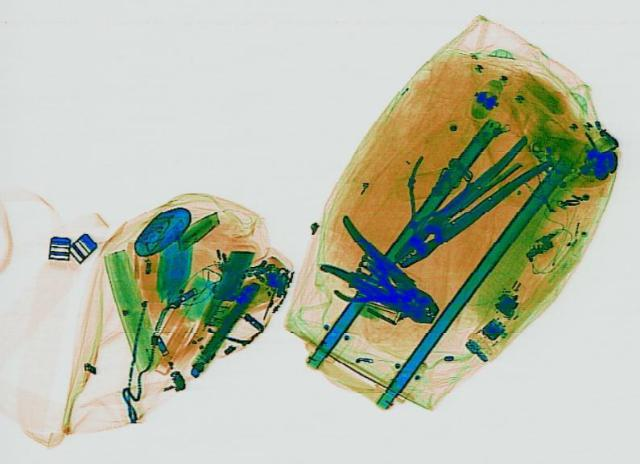Pliers: (376, 132, 562, 272), (289, 213, 463, 333), (318, 251, 442, 329)
